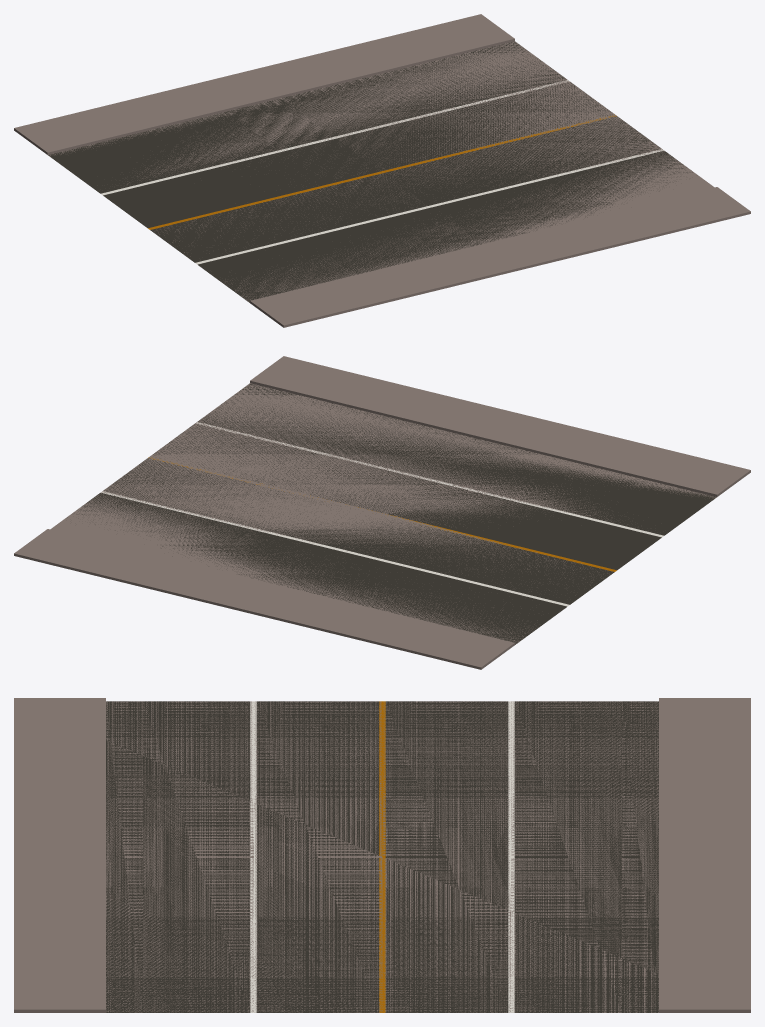
Rendered from Env_2lane.fbx.
3 renders of one model, top to bottom at view 1: azimuth 30°, elevation 25°; view 2: azimuth 150°, elevation 25°; view 3: azimuth 270°, elevation 25°, orthographic. The views are drawn at different scales.
Parts seen in each view (by area): view 1: Env_2lane; view 2: Env_2lane; view 3: Env_2lane.
Boxes of the visible parts, box(x1,y1,x2,y2) form: Env_2lane: box(14, 14, 750, 327); Env_2lane: box(14, 356, 750, 669); Env_2lane: box(14, 698, 750, 1012).
Bounding box in the file's own units: 2000 × 10 × 2000.
